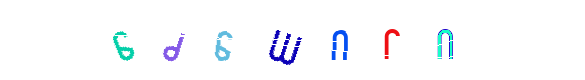6: (183, 0, 263, 80), (221, 0, 301, 80)
D: (191, 0, 271, 80)
N: (259, 0, 339, 80), (349, 0, 429, 80)
R: (300, 0, 380, 80)
W: (252, 0, 332, 80)
